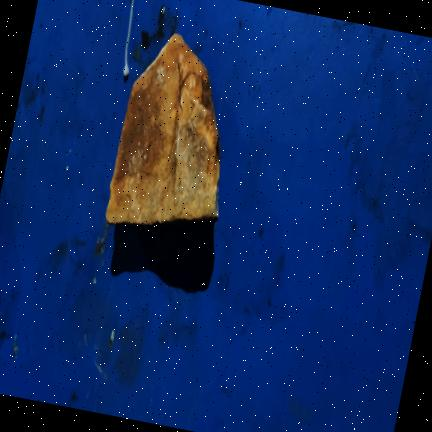Rocks: (106, 34, 220, 224)
